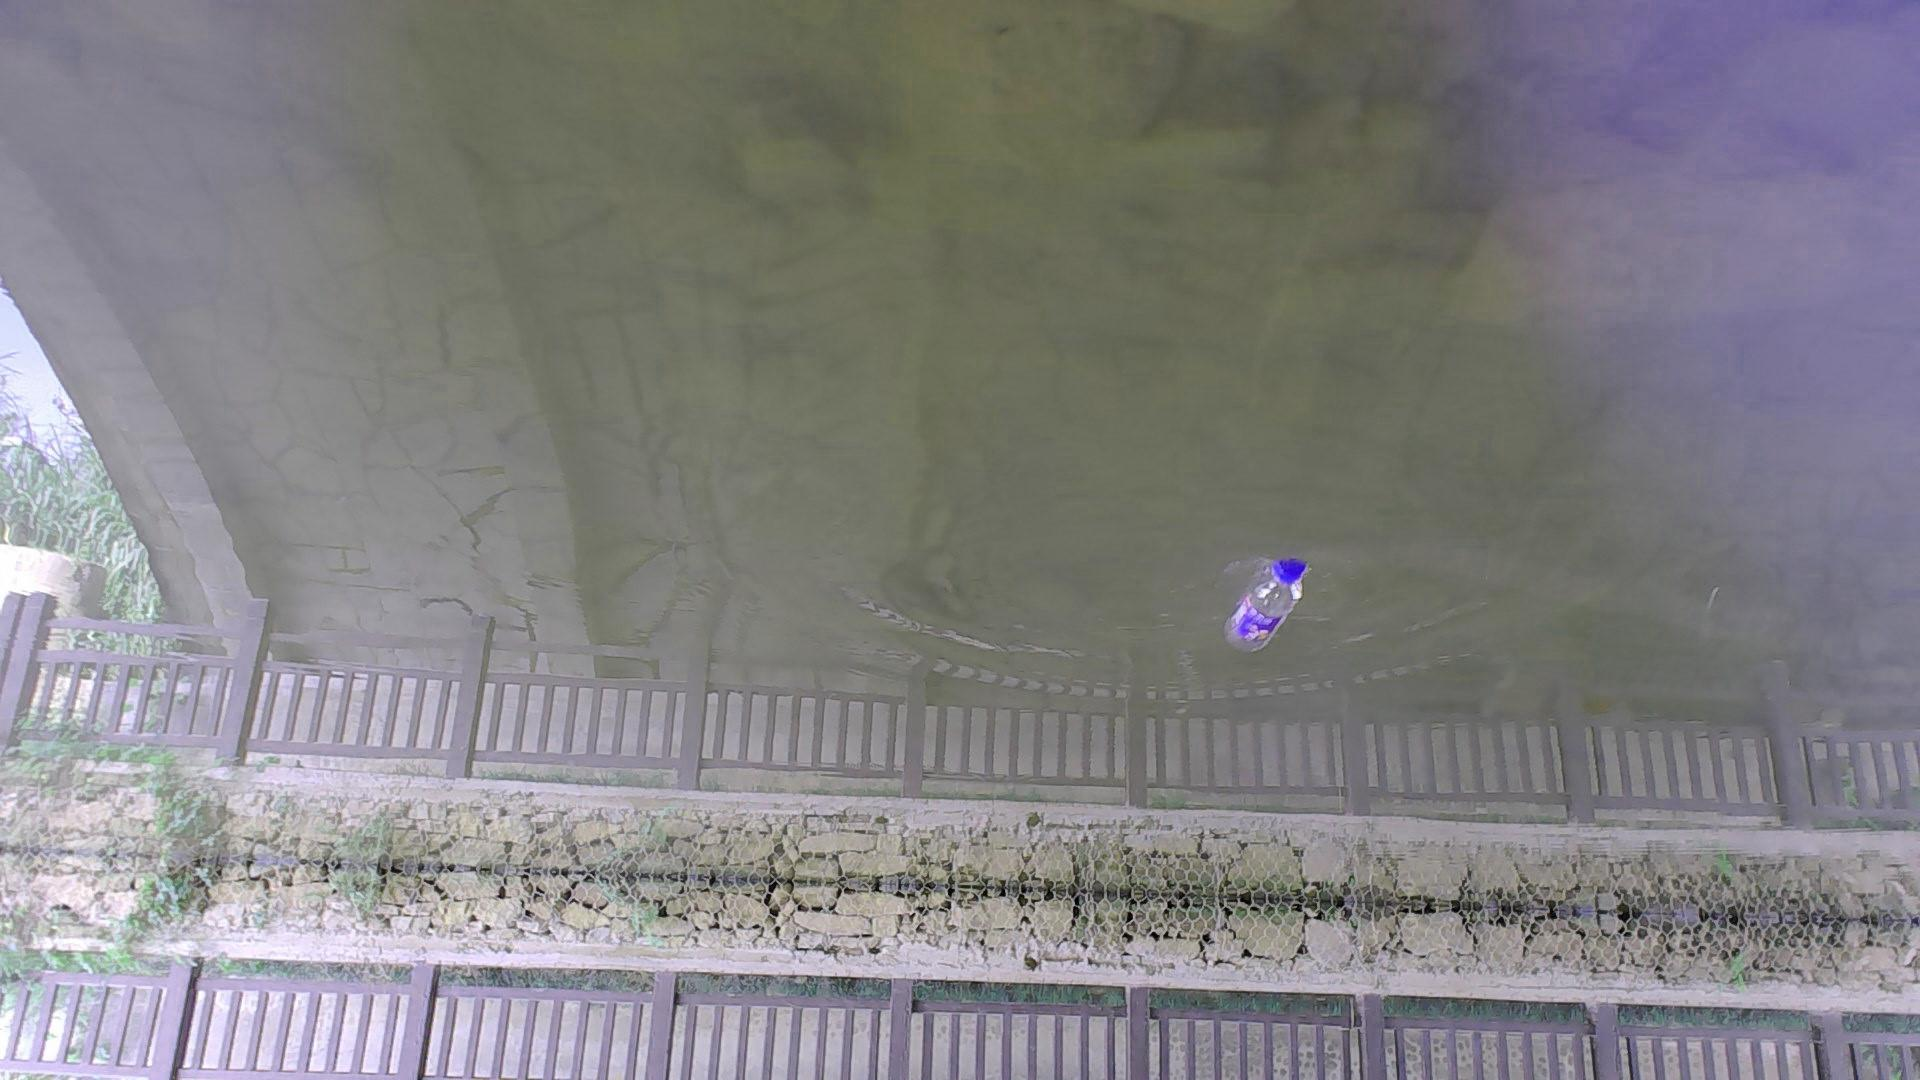Plastic: (1220, 556, 1317, 659)
